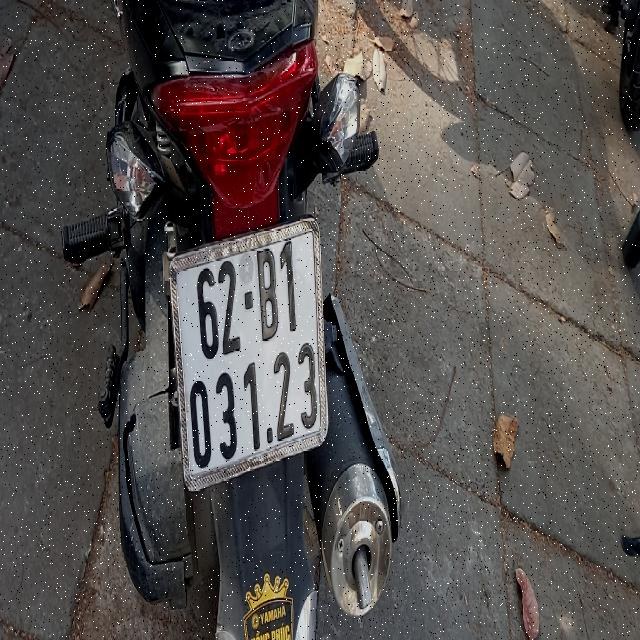0: (189, 377, 212, 473)
1: (280, 241, 297, 331), (244, 362, 260, 451)
2: (218, 261, 240, 353), (274, 353, 294, 440)
3: (215, 371, 237, 461), (299, 342, 318, 432)
6: (196, 268, 219, 360)
B: (257, 249, 279, 342)
